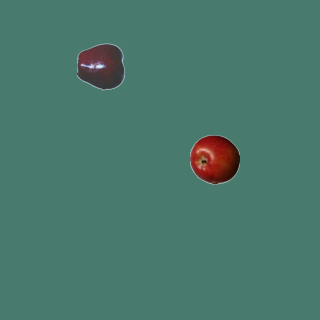Apple Braeburn: (189, 134, 239, 184)
Apple Red Delicious: (76, 41, 126, 91)
